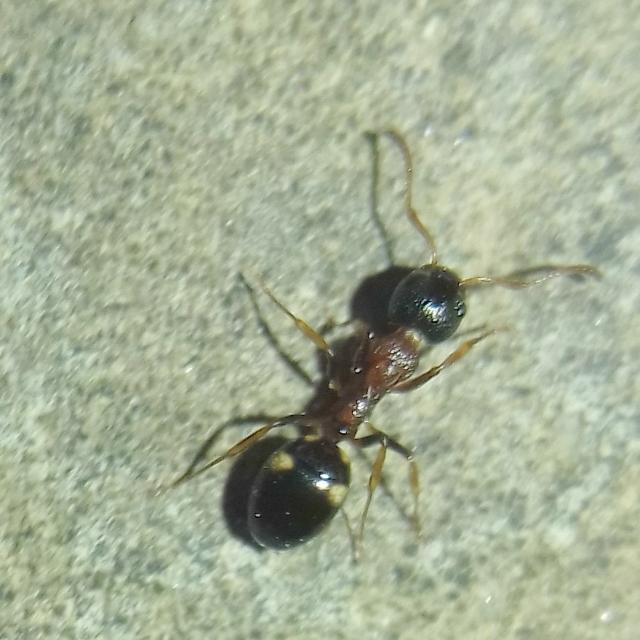Dolichoderus: (185, 195, 528, 580)
